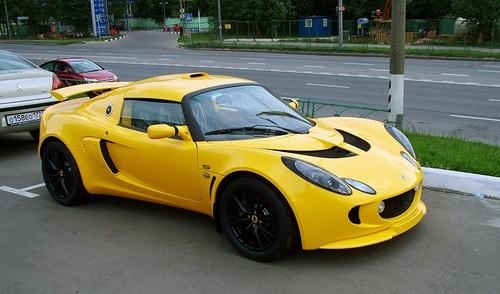car: (42, 71, 429, 262), (1, 44, 53, 141), (40, 56, 122, 87)
